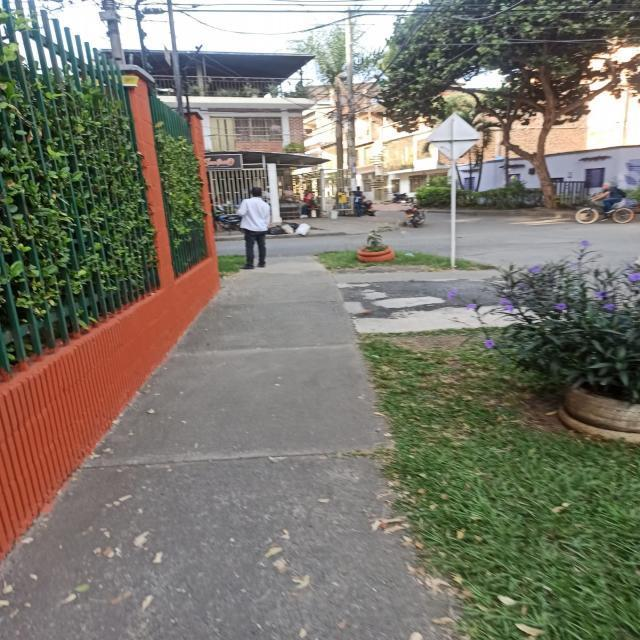Garbage_Bag: (294, 222, 310, 235), (268, 225, 286, 234), (280, 224, 294, 234)
